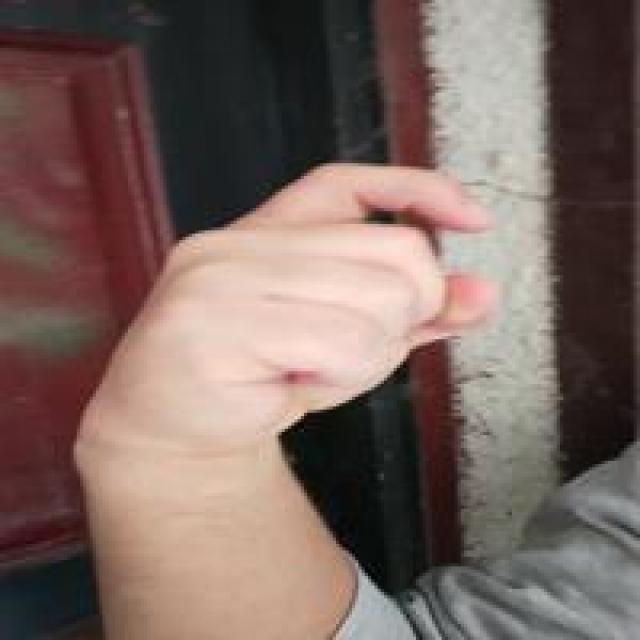X: (77, 158, 502, 437)
